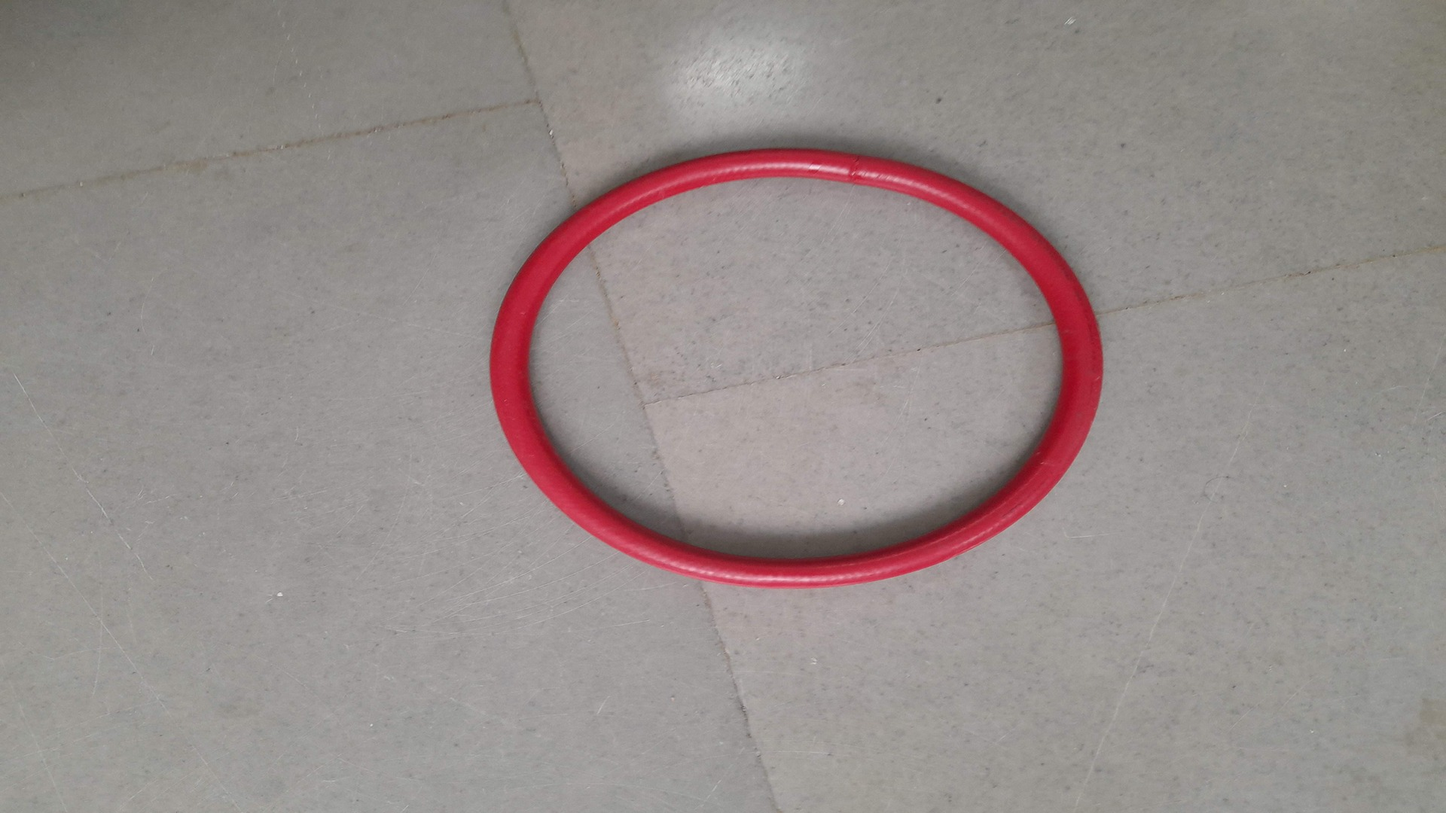Red ring: (486, 148, 1106, 583)
